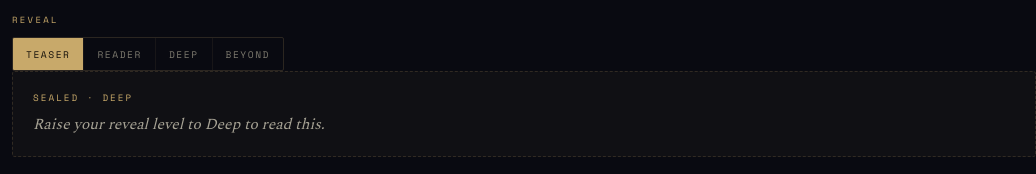
RevealGate › opens a sealed gate when the reader raises the level via the toggle
The image size is (1036, 174).
expect the text "major spoiler" is not shown: met
Click the radio button labelled "Deep" at [183, 54], box [155,38,212,70]
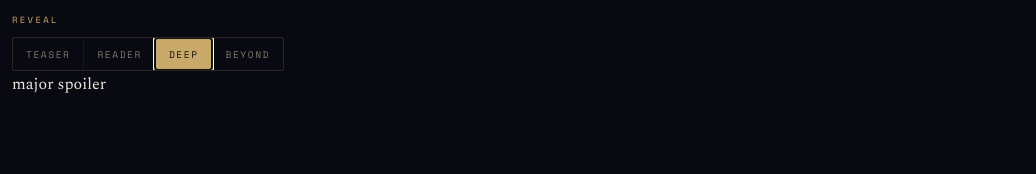
expect the text "major spoiler" is shown: met, box [12,72,106,96]
